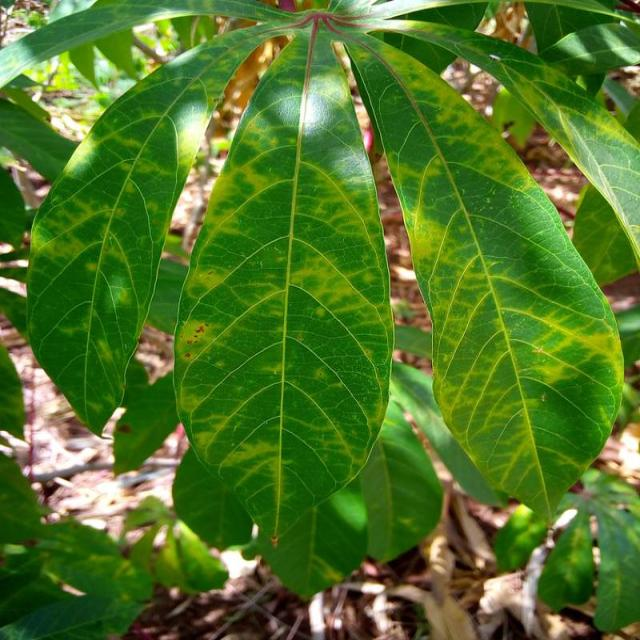cassava leaf: (338, 23, 625, 525), (171, 20, 396, 553), (24, 19, 291, 438)
